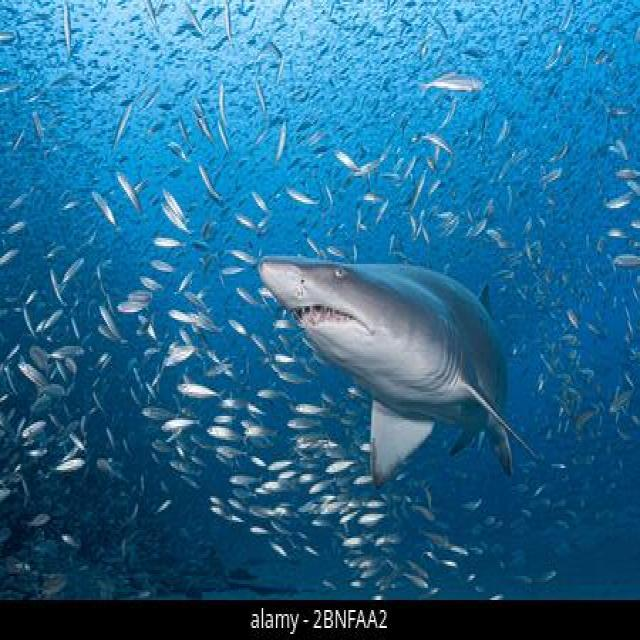Shark: (240, 198, 535, 500)
